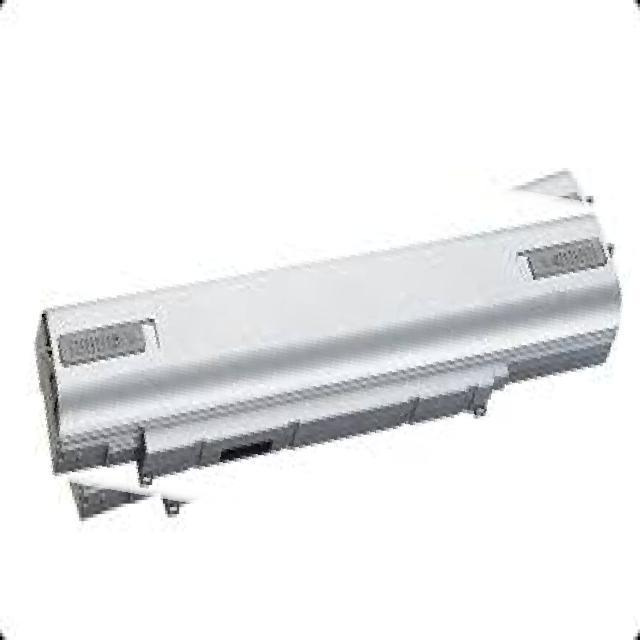Battery: (34, 208, 636, 481)
